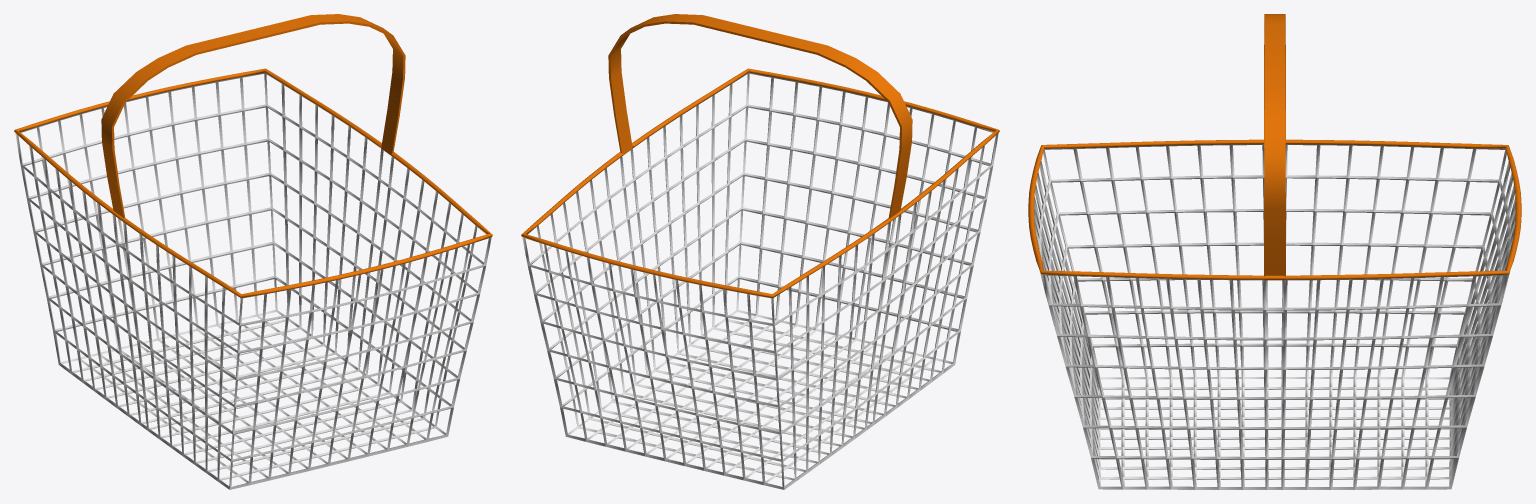
Rendered from Korg.fbx.
3 views of the same model, side by side, from view 1: azimuth 30°, elevation 25°; view 2: azimuth 150°, elevation 25°; view 3: azimuth 270°, elevation 25° (orthographic). The views are drawn at different scales.
Parts seen in each view (by area): view 1: Korg; view 2: Korg; view 3: Korg.
Part boxes in pixels (bbox=[...]): Korg: bbox=[14, 14, 492, 489]; Korg: bbox=[521, 14, 999, 489]; Korg: bbox=[1028, 14, 1521, 489].
Size of the model in its own units: 223 by 267 by 314.
